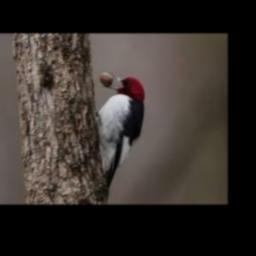Woodpecker: (96, 72, 145, 202)
